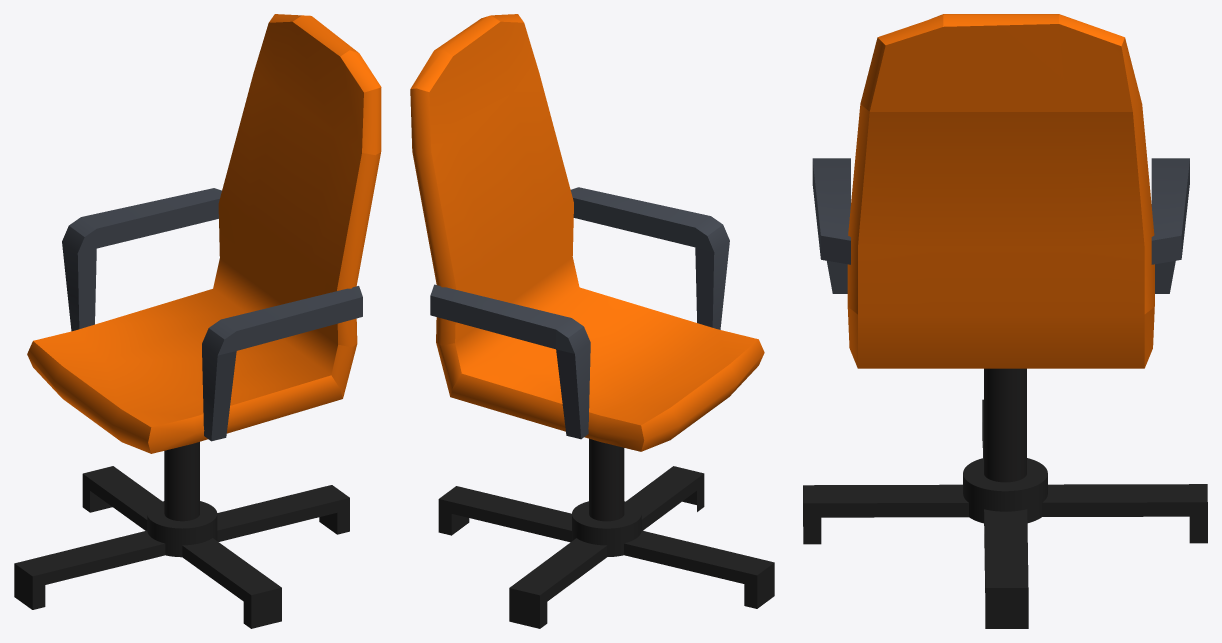
The model's file is krzeslo.fbx.
3 renders of one model, left to right at view 1: azimuth 30°, elevation 25°; view 2: azimuth 150°, elevation 25°; view 3: azimuth 270°, elevation 25°, orthographic. The views are drawn at different scales.
Parts seen in each view (by area): view 1: krzeslo, dol, ramie krzeslo, ramie krzeslo 2, dol.001; view 2: krzeslo, dol, ramie krzeslo 2, ramie krzeslo, dol.001; view 3: krzeslo, dol, dol.001, ramie krzeslo 2, ramie krzeslo.
Boxes of the visible parts, x1=… form: krzeslo: x1=27, y1=14, x2=381, y2=453; dol: x1=14, y1=466, x2=349, y2=628; ramie krzeslo: x1=202, y1=286, x2=362, y2=441; ramie krzeslo 2: x1=62, y1=188, x2=221, y2=331; dol.001: x1=164, y1=442, x2=199, y2=521; krzeslo: x1=410, y1=14, x2=764, y2=451; dol: x1=438, y1=466, x2=774, y2=628; ramie krzeslo 2: x1=430, y1=284, x2=590, y2=439; ramie krzeslo: x1=570, y1=187, x2=729, y2=329; dol.001: x1=589, y1=438, x2=624, y2=521; krzeslo: x1=847, y1=14, x2=1154, y2=368; dol: x1=803, y1=399, x2=1207, y2=628; dol.001: x1=984, y1=368, x2=1026, y2=482; ramie krzeslo 2: x1=1151, y1=158, x2=1189, y2=293; ramie krzeslo: x1=812, y1=158, x2=850, y2=293.
Size of the model in its own units: 74.18 by 111 by 67.26.
